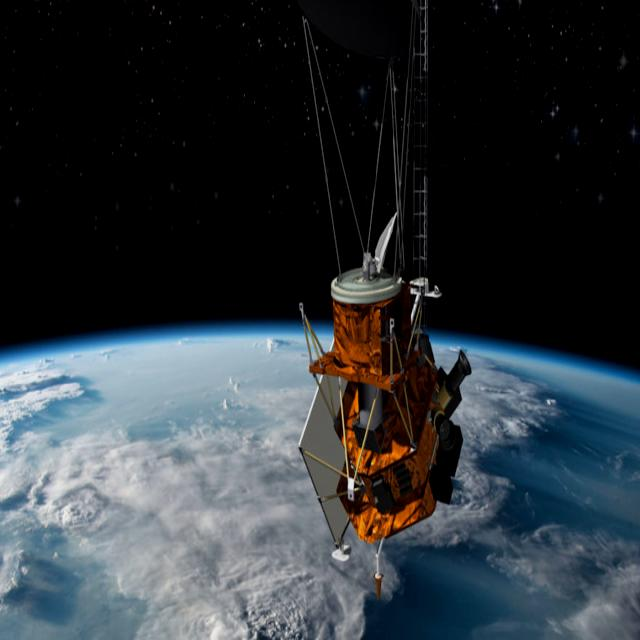satellite: (280, 3, 488, 640)
